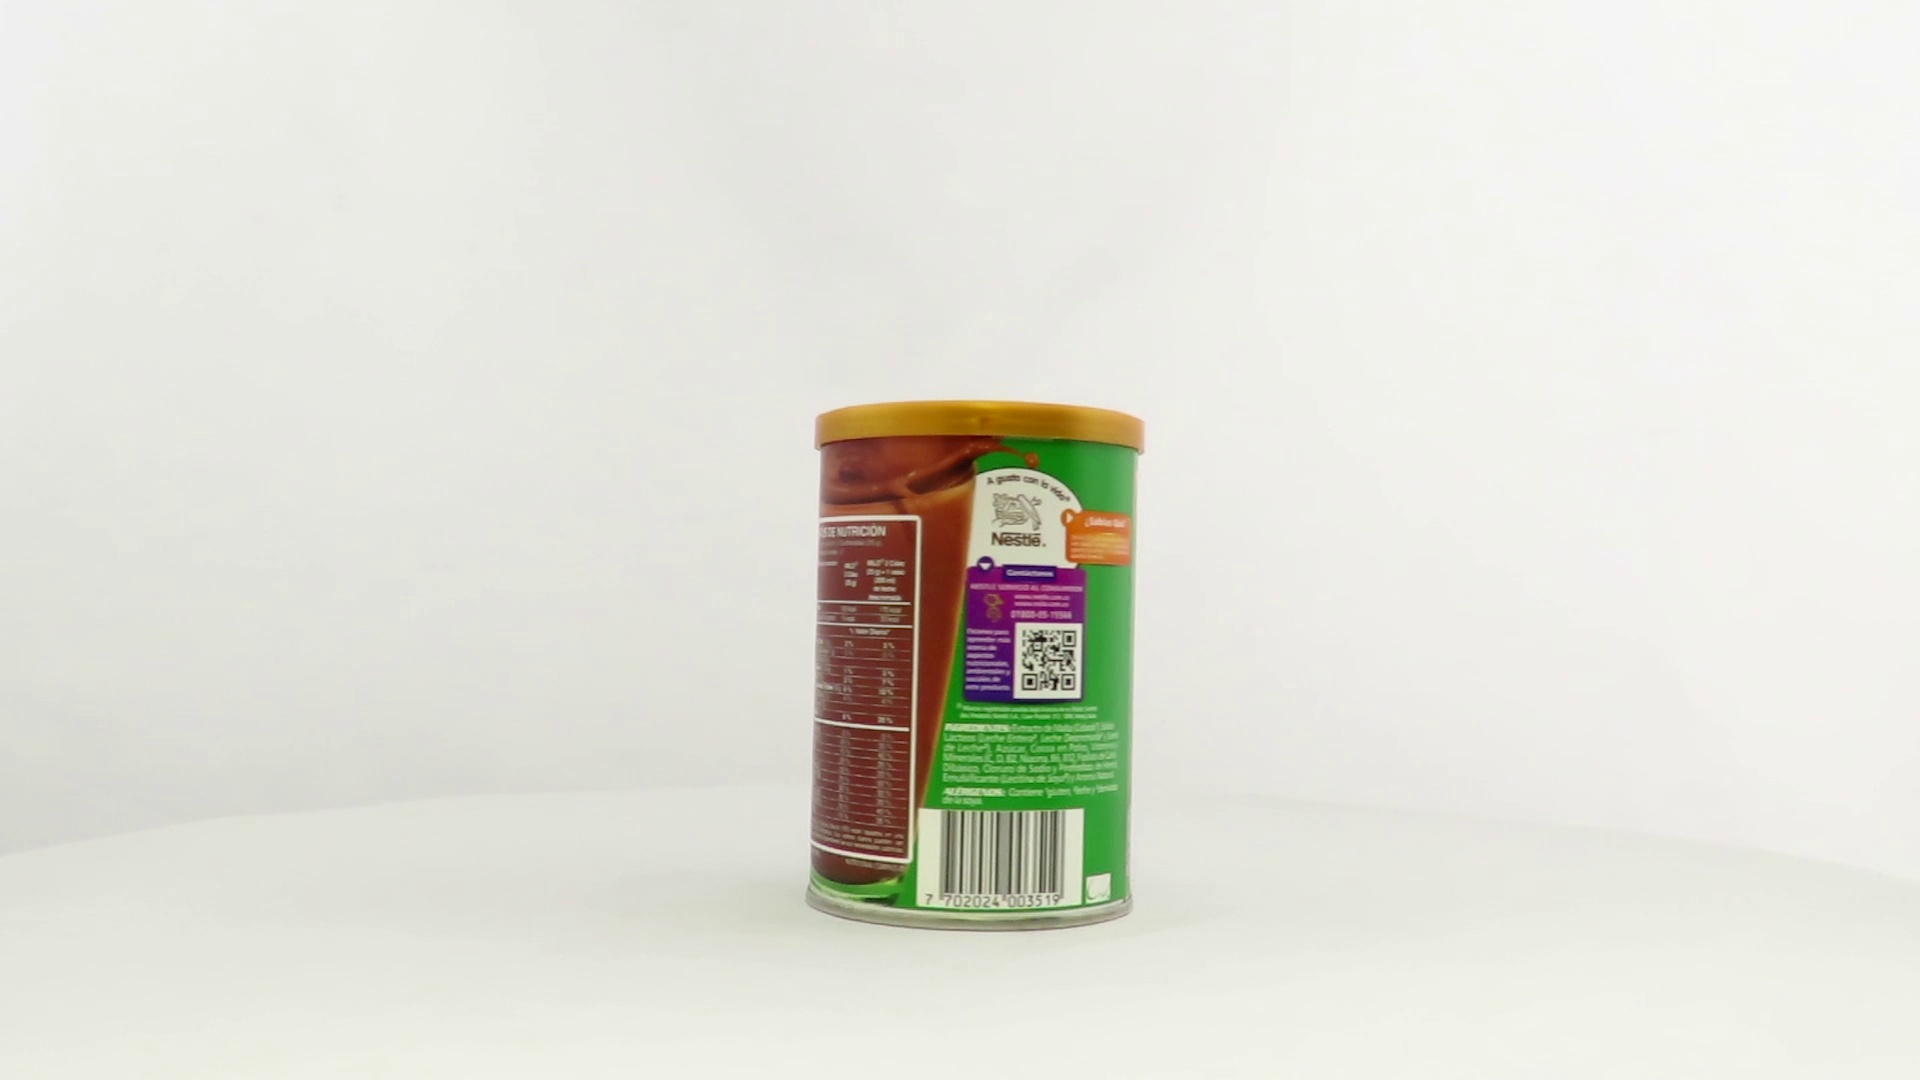COL0170203LAT20000: (799, 396, 1151, 939)
